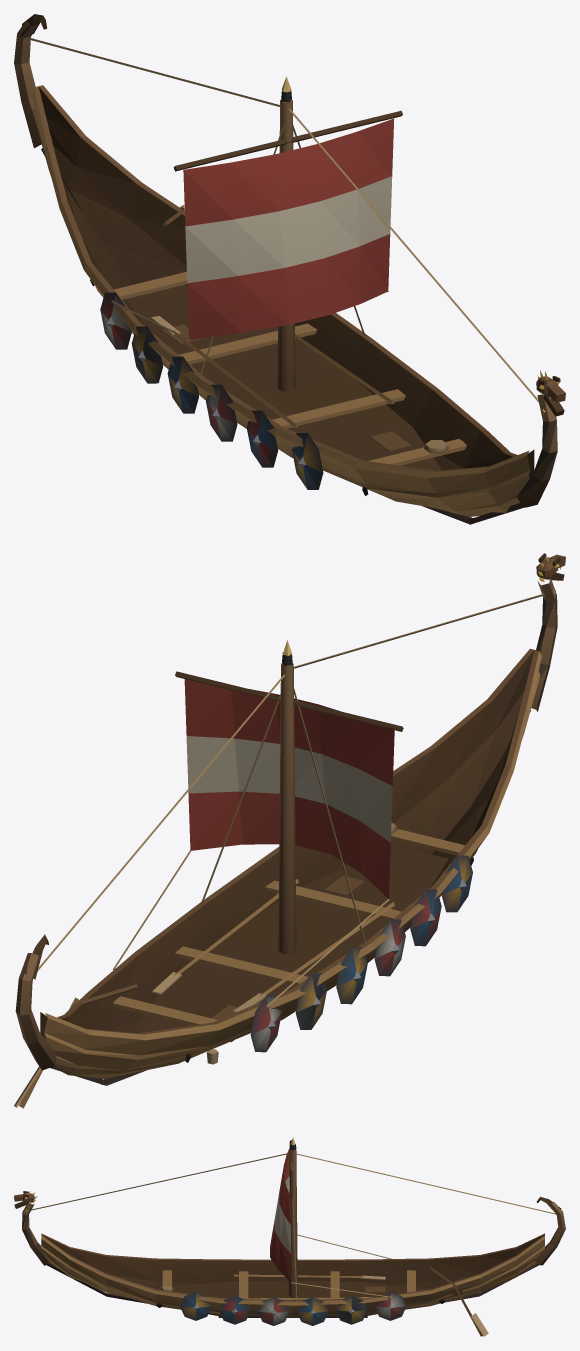
File: longship-drakkar.glb
3 renders of one model, top to bottom at view 1: azimuth 30°, elevation 25°; view 2: azimuth 150°, elevation 25°; view 3: azimuth 270°, elevation 25°, orthographic. The views are drawn at different scales.
Visible parts, largest first — view 1: longship_drakkar; view 2: longship_drakkar; view 3: longship_drakkar.
Part boxes in pixels (box(x1,y1,x2,y2)): longship_drakkar: box(14, 14, 565, 524); longship_drakkar: box(14, 553, 565, 1108); longship_drakkar: box(14, 1137, 565, 1336).
Size of the model in its own units: 3.48 by 5.2 by 14.47.
